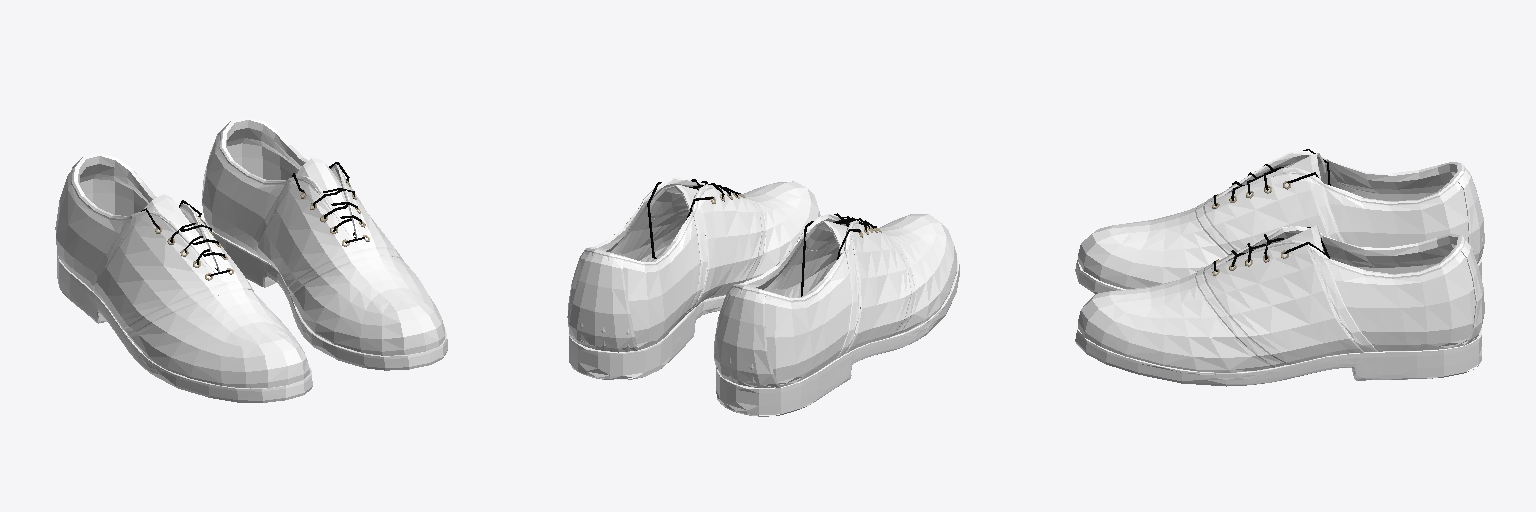
File: 11742_shoe_v1_L3.obj
3 views of the same model, side by side, from view 1: azimuth 30°, elevation 25°; view 2: azimuth 150°, elevation 25°; view 3: azimuth 270°, elevation 25° (orthographic).
Visible parts, largest first — view 1: 11742_shoe_v1_L3; view 2: 11742_shoe_v1_L3; view 3: 11742_shoe_v1_L3.
Boxes of the visible parts, x1,y1,x2,y2 form: 11742_shoe_v1_L3: [55, 117, 447, 402]; 11742_shoe_v1_L3: [567, 178, 959, 416]; 11742_shoe_v1_L3: [1075, 149, 1484, 386].
Bounding box in the file's own units: 23.06 × 10.98 × 30.72.